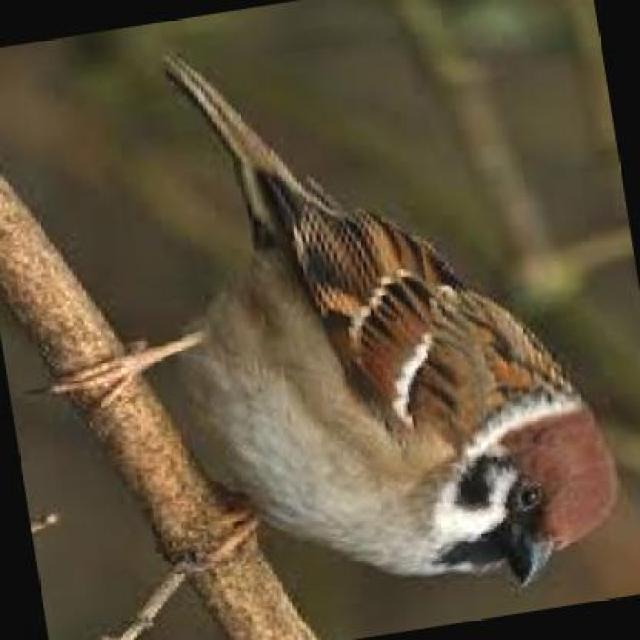Bird: (132, 30, 627, 593)
